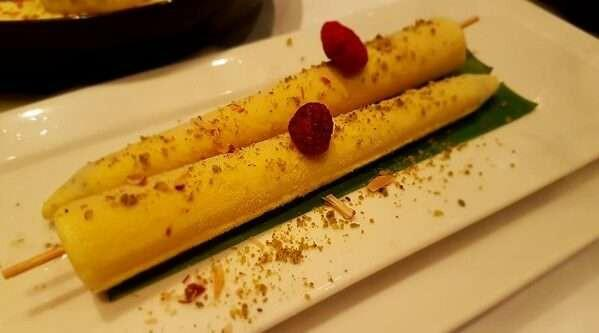Kulfi: (53, 75, 499, 295), (42, 18, 466, 218)
